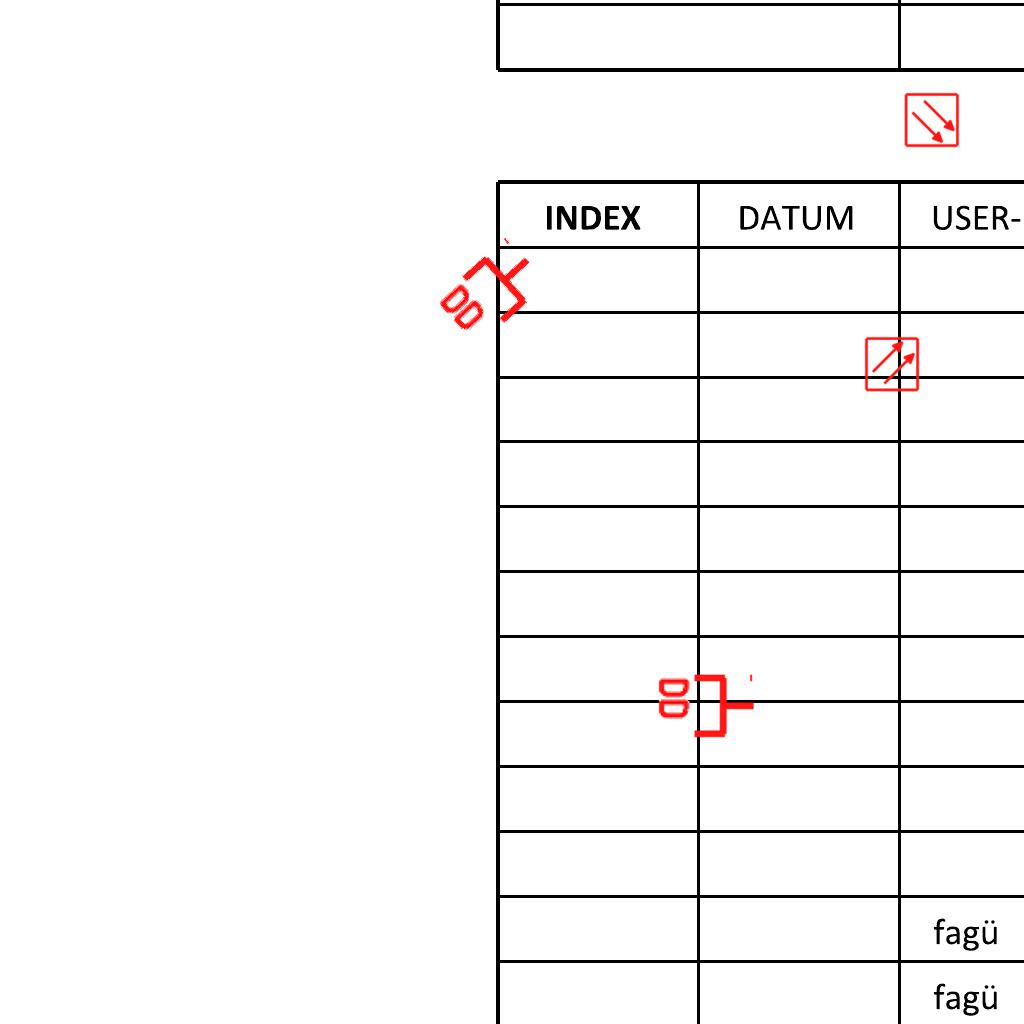Datenanschluss_zweifach: (431, 233, 554, 354), (654, 673, 757, 742)
RMO_Rauchmelder_optischer: (904, 92, 960, 148), (864, 336, 920, 392)
